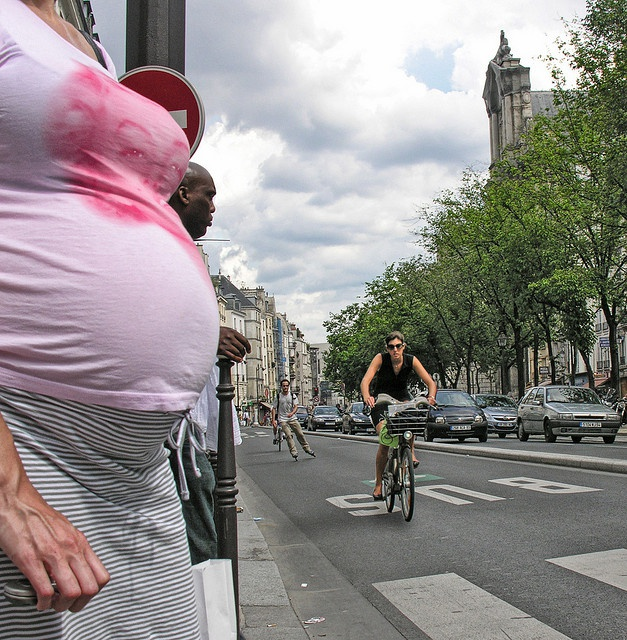non-vehicle: (376, 392, 437, 519), (276, 425, 283, 451)
